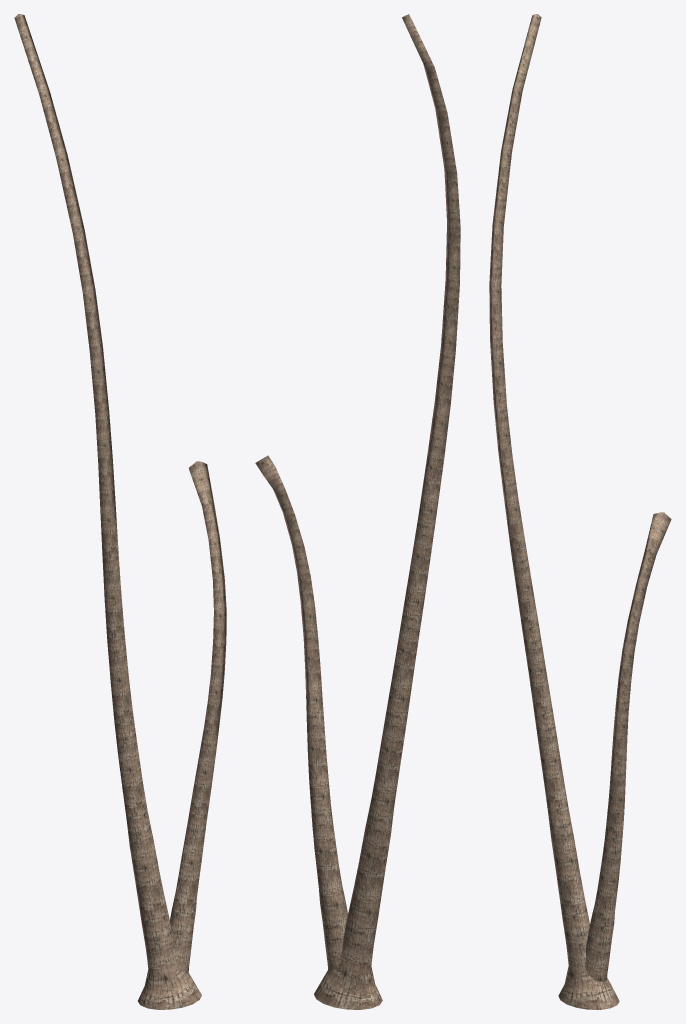
The model's file is m_palm_p2_20_trunk_0_lev2.glb.
The picture shows the model from 3 angles, left to right: view 1: azimuth 30°, elevation 25°; view 2: azimuth 150°, elevation 25°; view 3: azimuth 330°, elevation 25°; orthographic projection. The views are drawn at different scales.
Visible parts, largest first — view 1: m_palm_p2_20_trunk_0_lev2; view 2: m_palm_p2_20_trunk_0_lev2; view 3: m_palm_p2_20_trunk_0_lev2.
Part boxes in pixels (<box>): m_palm_p2_20_trunk_0_lev2: <box>14,14,226,1009</box>; m_palm_p2_20_trunk_0_lev2: <box>255,14,460,1009</box>; m_palm_p2_20_trunk_0_lev2: <box>489,14,671,1009</box>.
Bounding box in the file's own units: 1.28 × 7.02 × 0.8529.
Materials: 1 (1 with a texture image).
